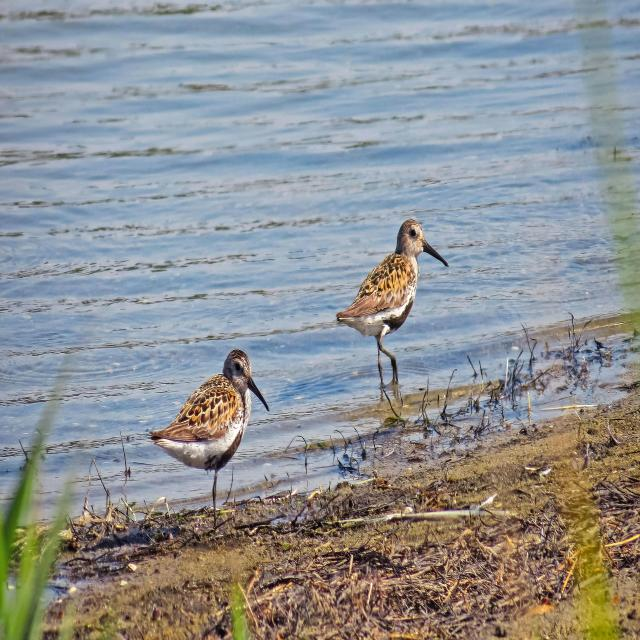Sandpiper: (337, 214, 449, 390)
